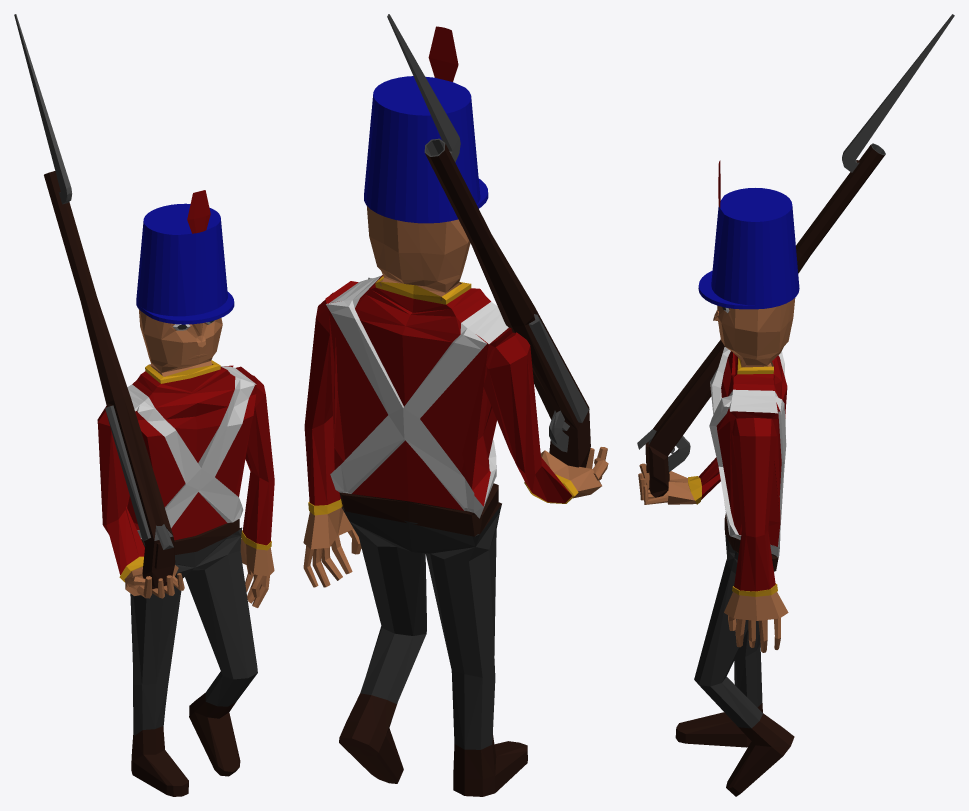
File: Infantry_000070.obj
The picture shows the model from 3 angles, left to right: view 1: azimuth 30°, elevation 25°; view 2: azimuth 150°, elevation 25°; view 3: azimuth 270°, elevation 25°; orthographic projection. The views are drawn at different scales.
Parts seen in each view (by area): view 1: {Man}_Circle, {Mesket}_Cube.001; view 2: {Man}_Circle, {Mesket}_Cube.001; view 3: {Man}_Circle, {Mesket}_Cube.001.
Part boxes in pixels (box(x1,y1,x2,y2)): {Man}_Circle: box(97, 190, 274, 796); {Mesket}_Cube.001: box(14, 14, 175, 589); {Man}_Circle: box(303, 26, 608, 796); {Mesket}_Cube.001: box(387, 14, 590, 467); {Man}_Circle: box(638, 160, 799, 796); {Mesket}_Cube.001: box(637, 14, 954, 497).
Size of the model in its own units: 5.63 by 20.05 by 7.93.
